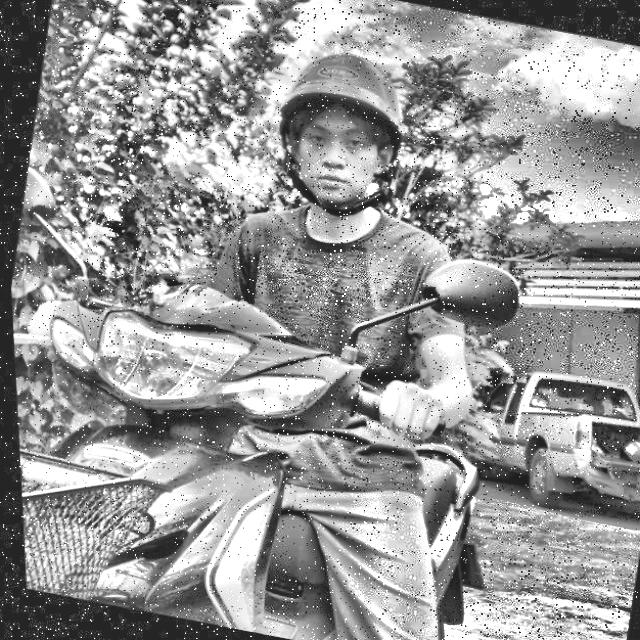Helmet: (250, 37, 427, 231)
